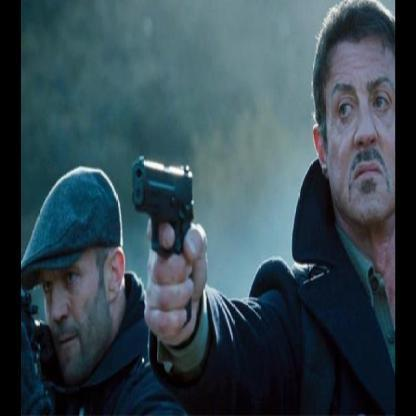Pistol: (117, 147, 205, 336)
